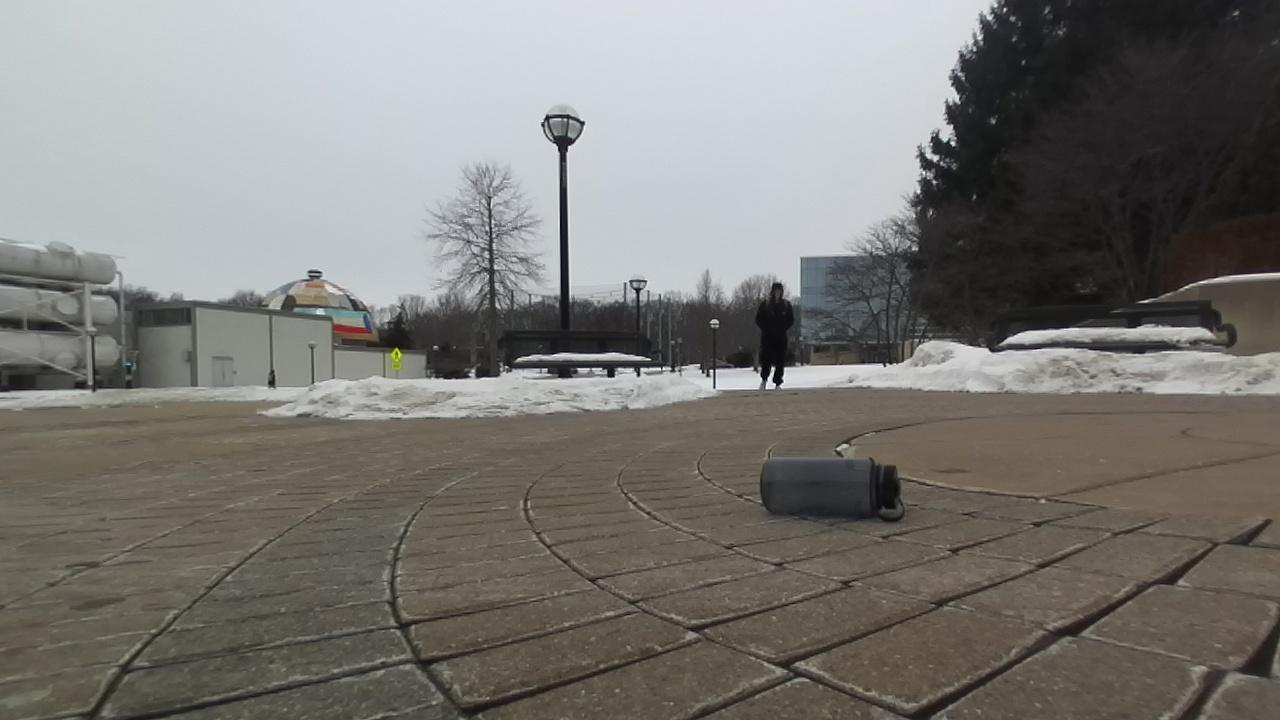bottle: (760, 457, 904, 521)
